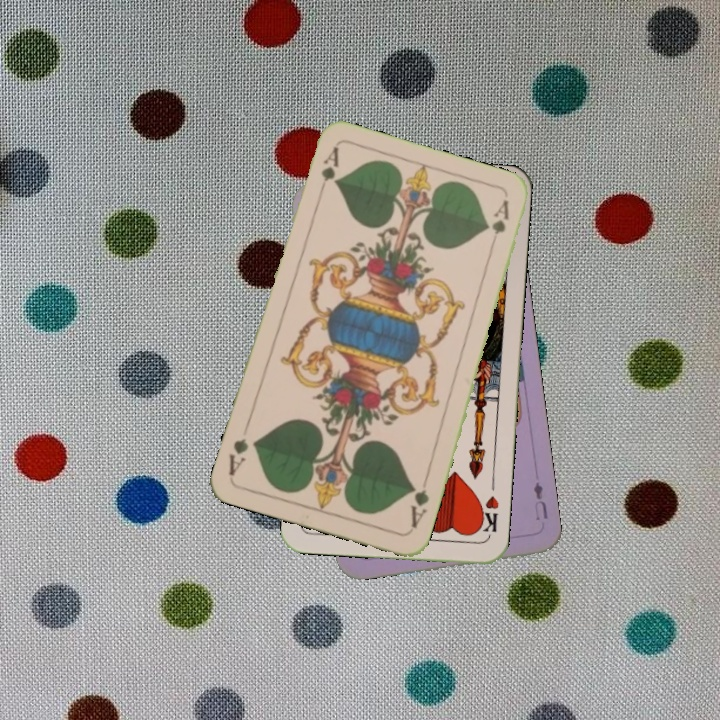EU: (529, 478, 551, 522)
GA: (314, 143, 341, 201), (406, 482, 432, 531)
HK: (474, 492, 502, 539)
